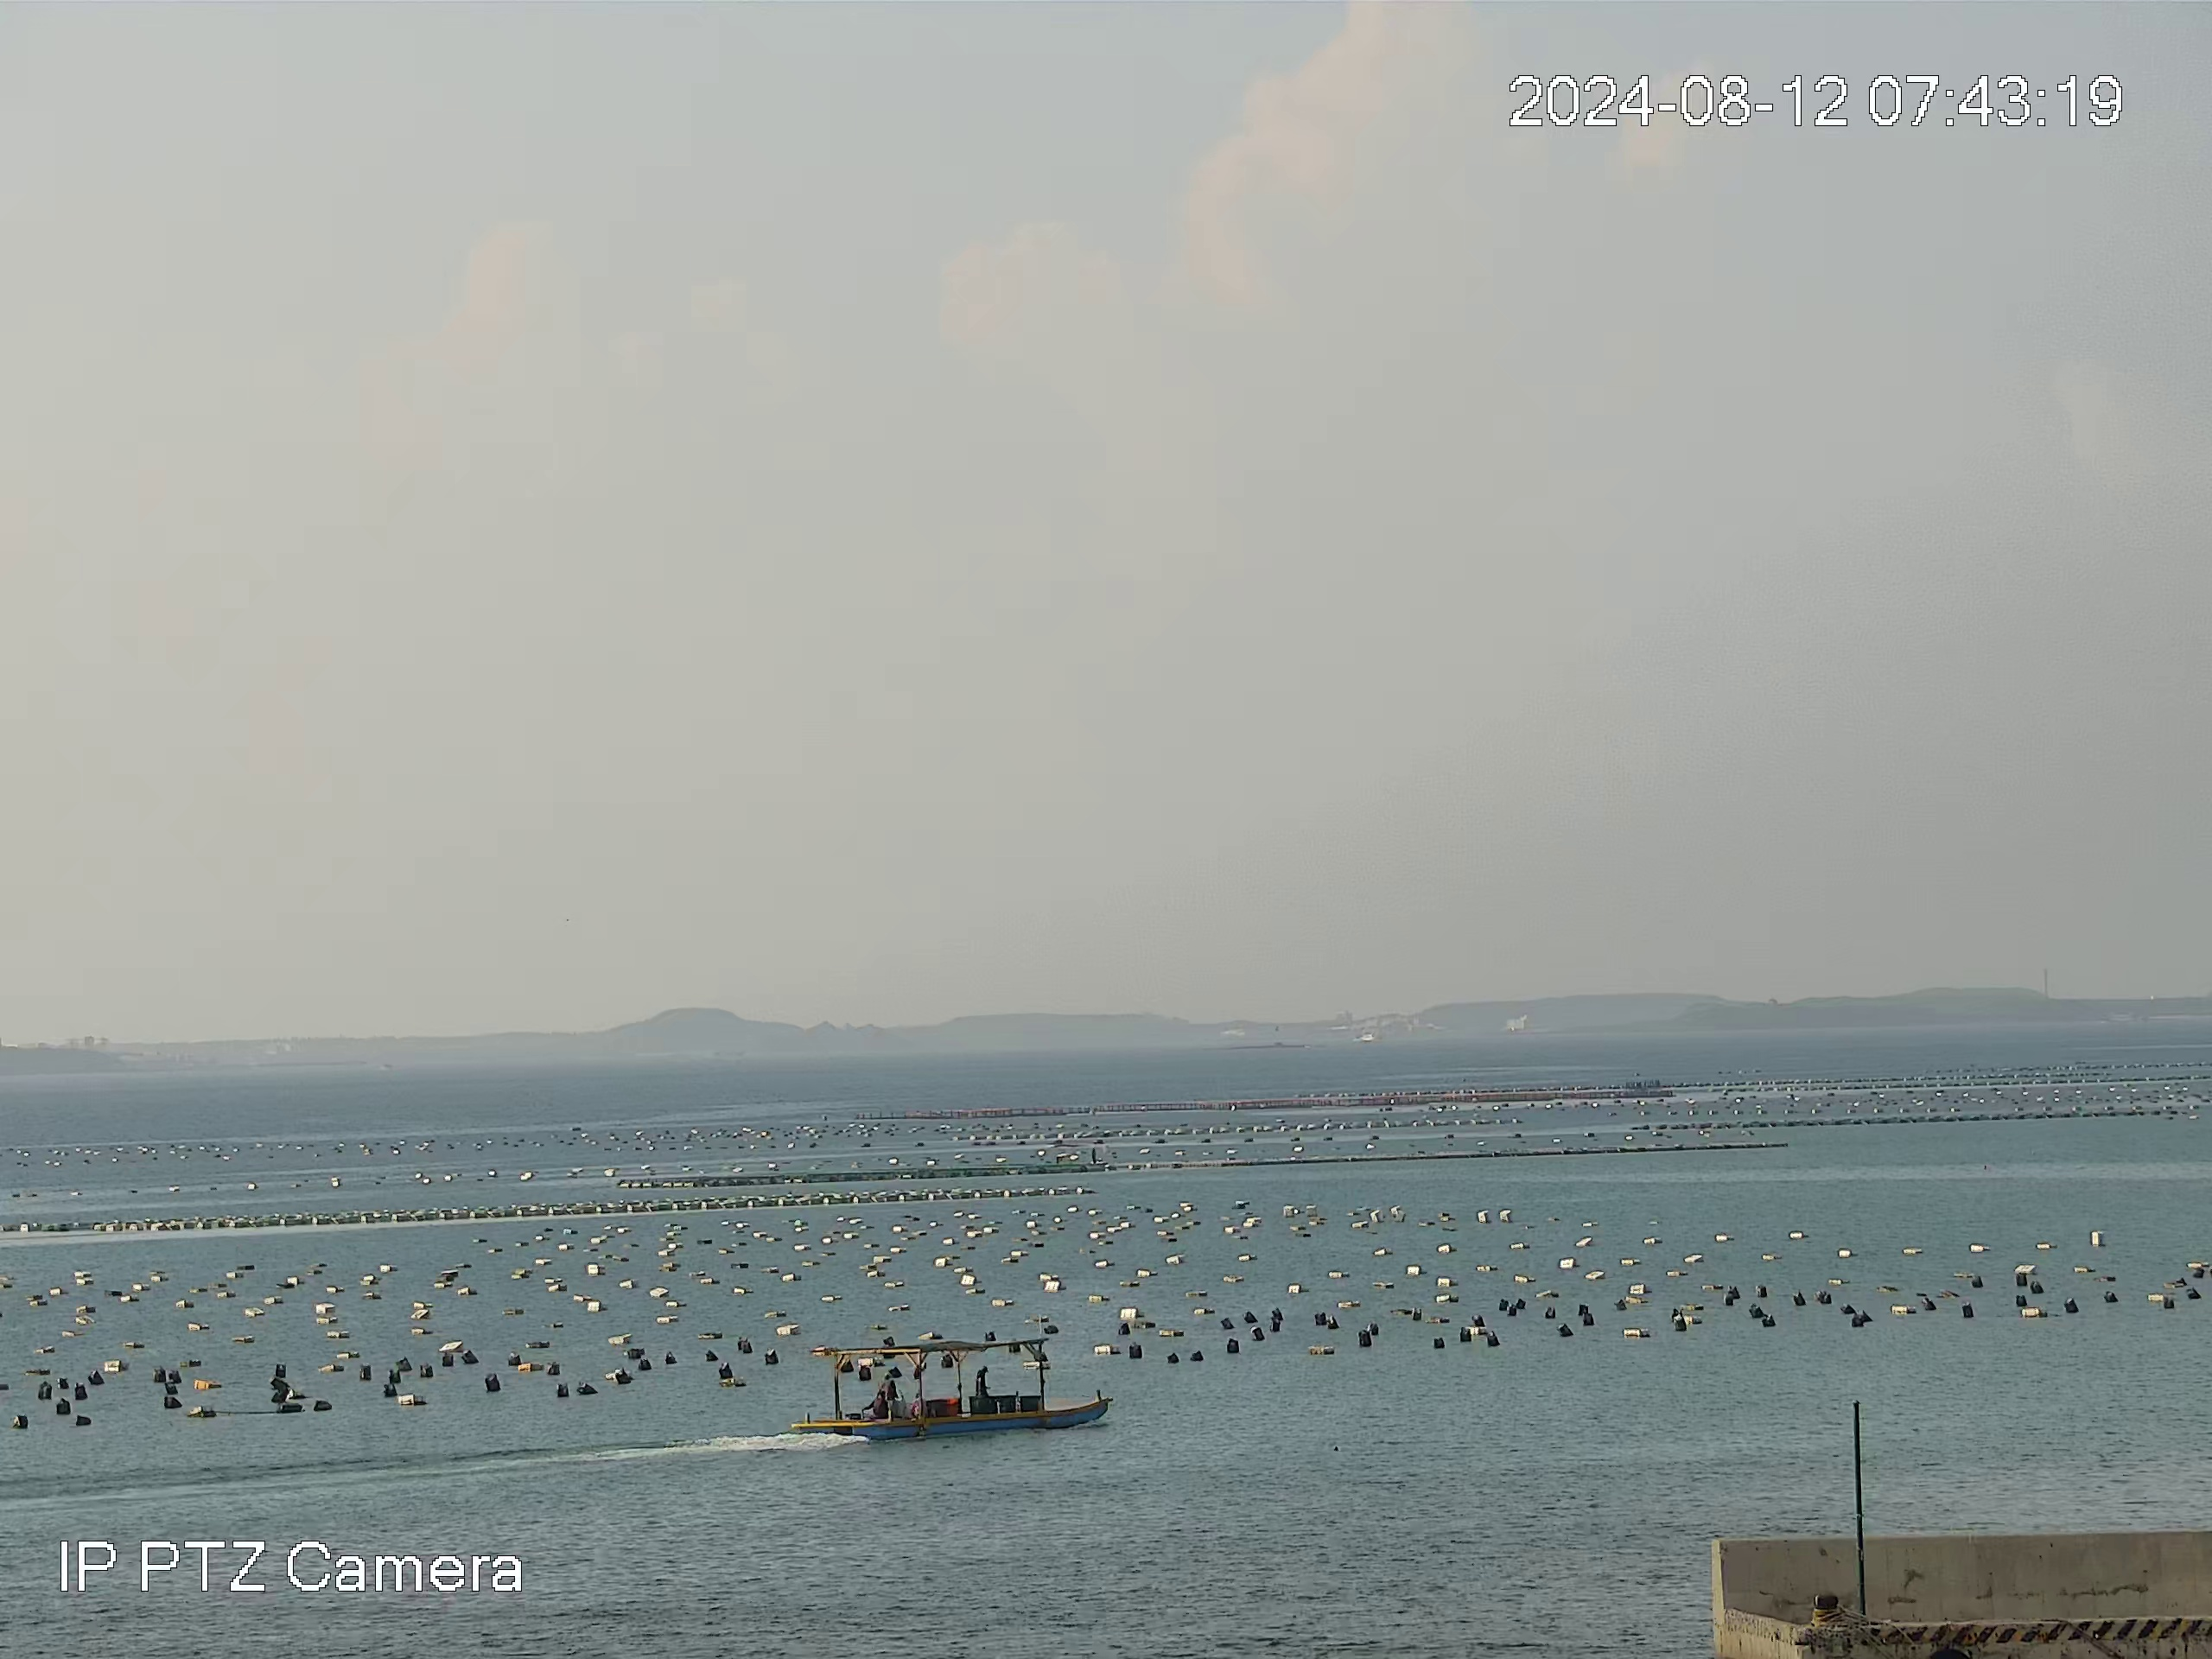boat: (782, 1332, 1124, 1448)
